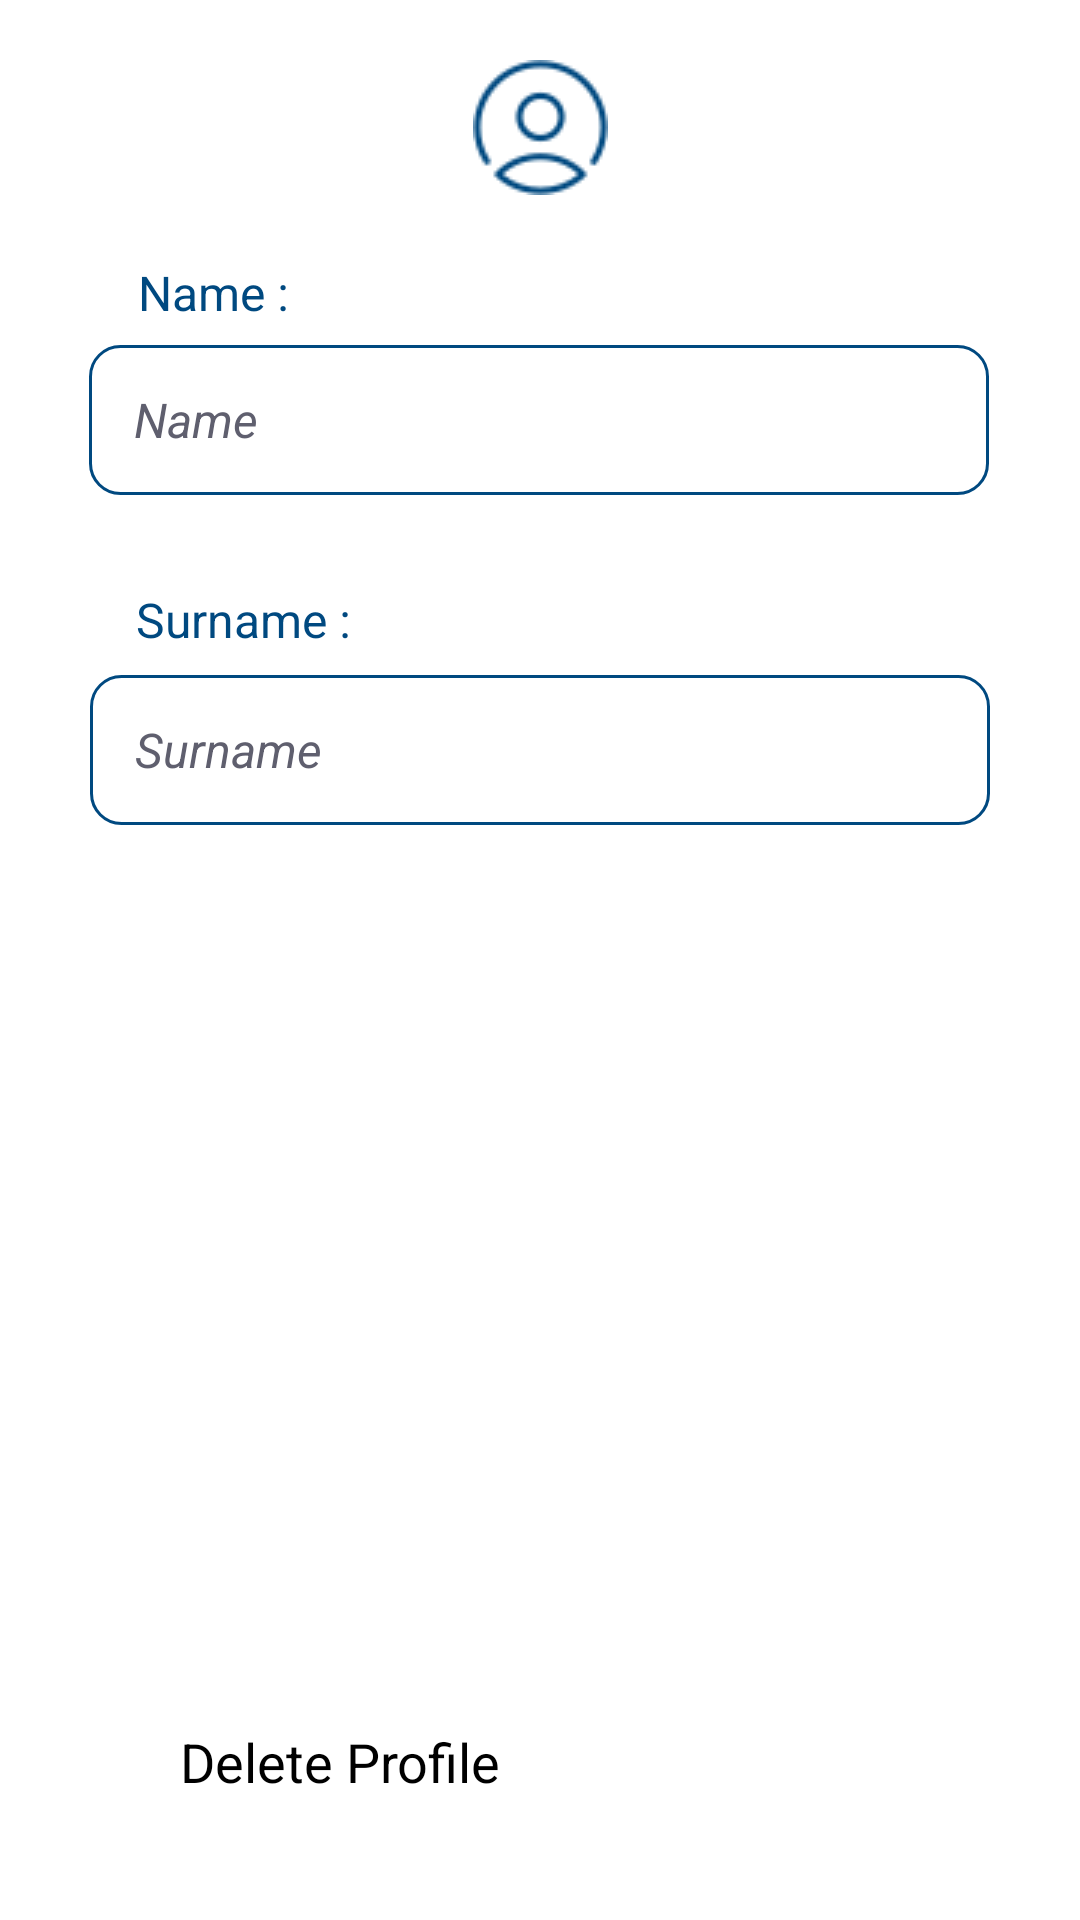

Screen size 1080x1920. Icon name, then its center in pixels as (x,y):
user: (540,127)
